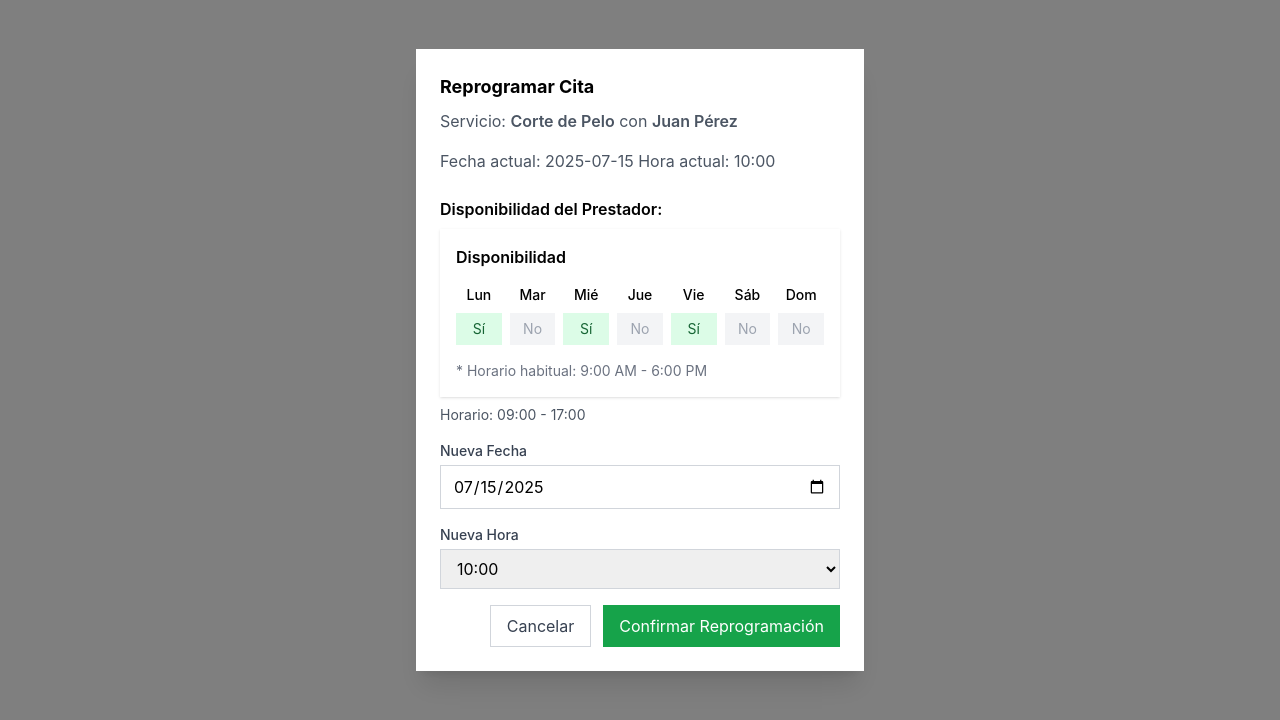
Test: RescheduleAppointmentModal › debe mostrar un mensaje de error si se intenta reprogramar sin seleccionar fecha
Clear the date field labelled "Nueva Fecha" at (640, 487), box [440,465,840,509]
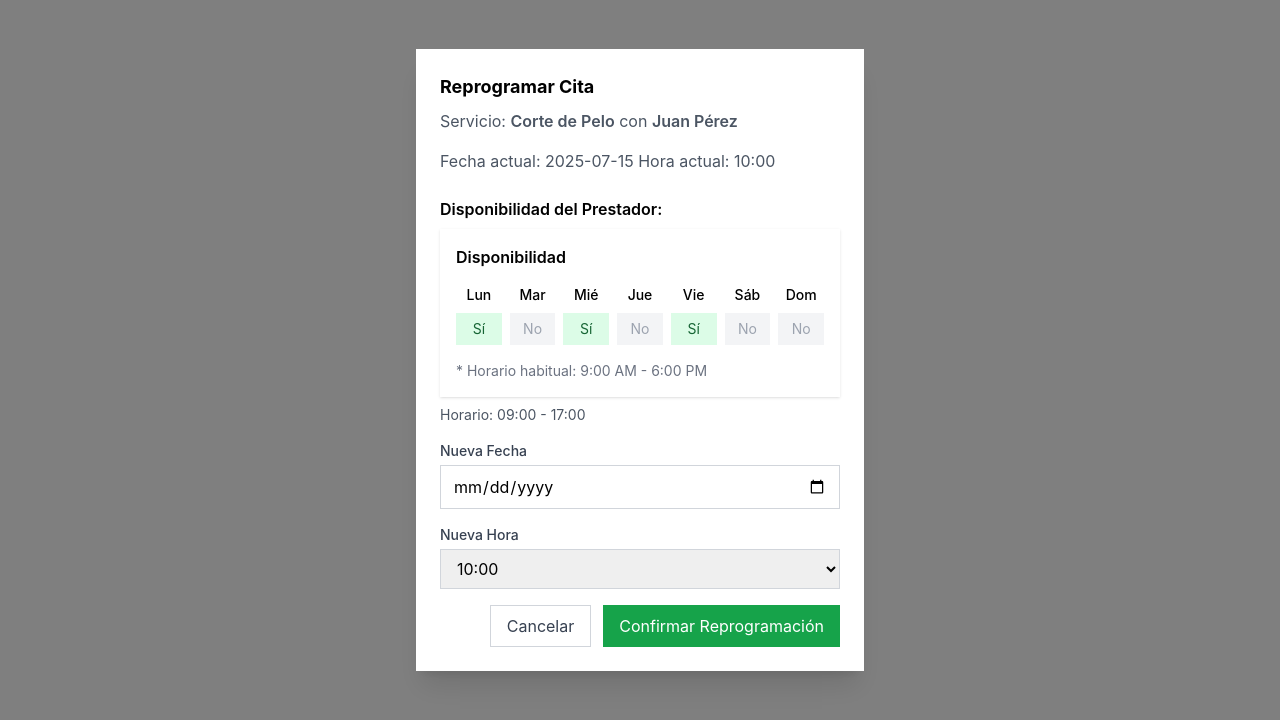
Click the button "Confirmar Reprogramación".
click(722, 626)  # box [603,605,840,647]
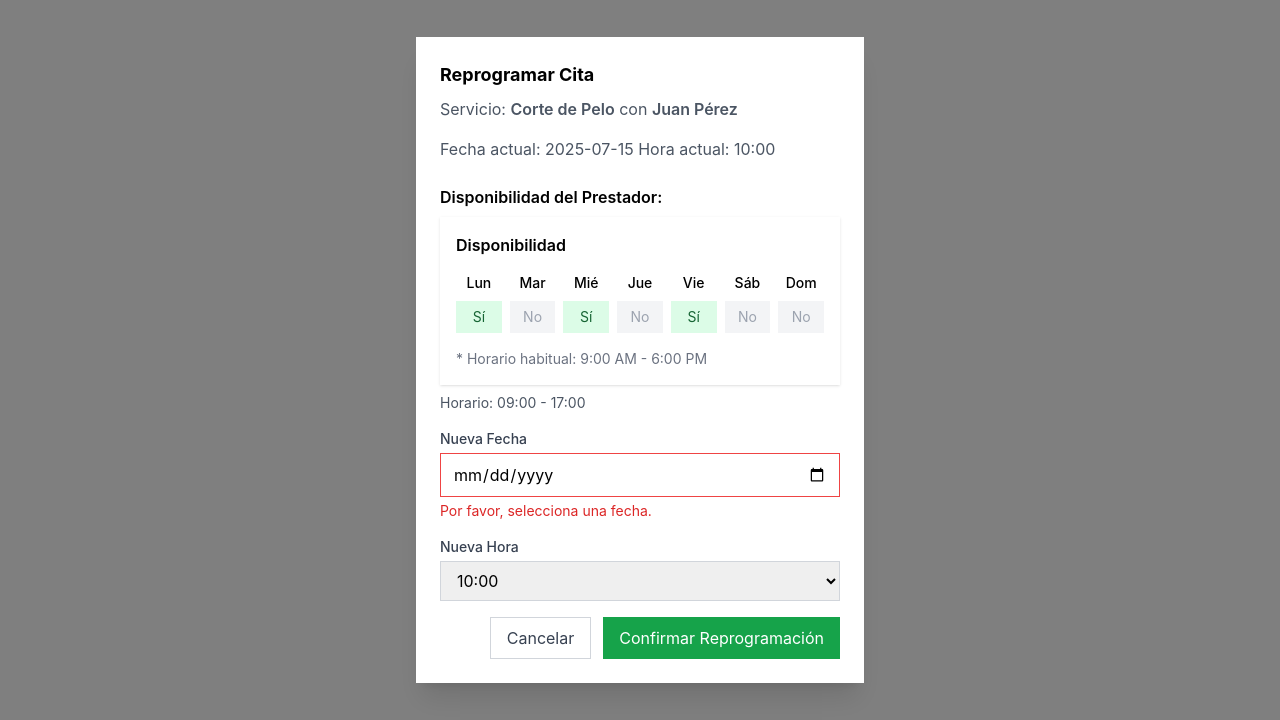
Check: the text "Por favor, selecciona una fecha." is shown, box [440,502,652,519]
